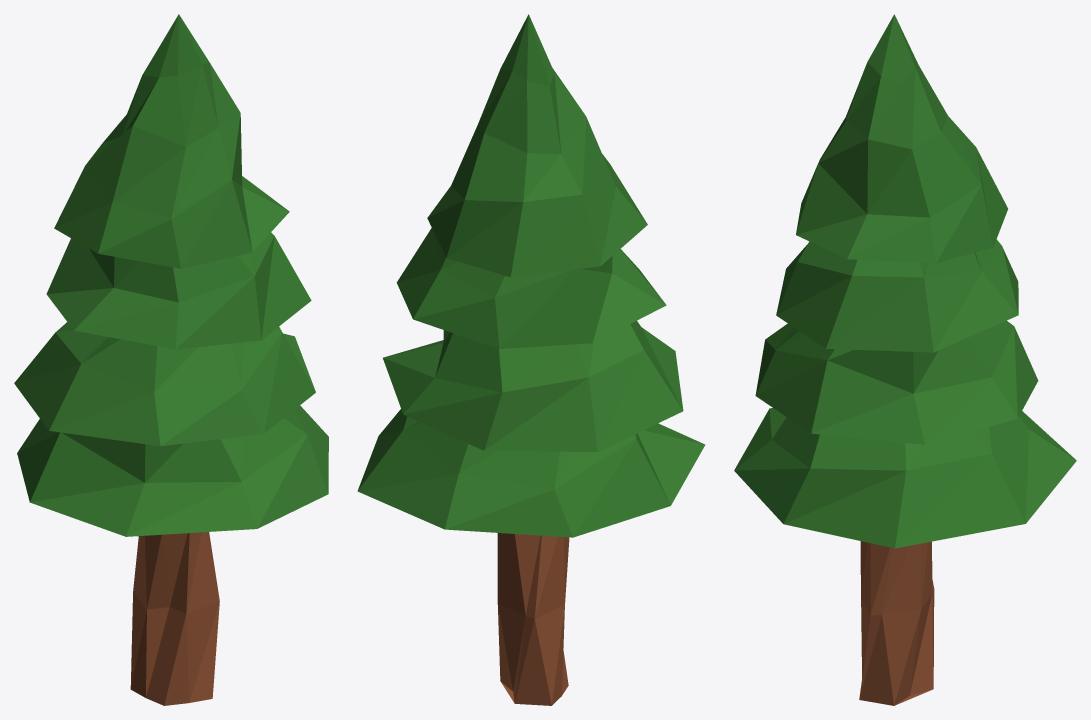
File: Dandelion_Sapin_Clair.FBX
3 renders of one model, left to right at view 1: azimuth 30°, elevation 25°; view 2: azimuth 150°, elevation 25°; view 3: azimuth 270°, elevation 25°, orthographic.
Parts seen in each view (by area): view 1: Cylinder075; view 2: Cylinder075; view 3: Cylinder075.
Boxes of the visible parts, x1,y1,x2,y2 form: Cylinder075: (14, 14, 328, 705); Cylinder075: (357, 14, 705, 705); Cylinder075: (734, 14, 1076, 705).
Bounding box in the file's own units: 480 × 1047 × 480.
